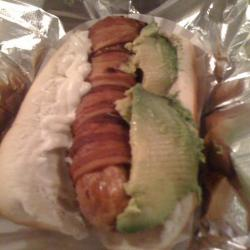bread: (6, 29, 207, 250)
